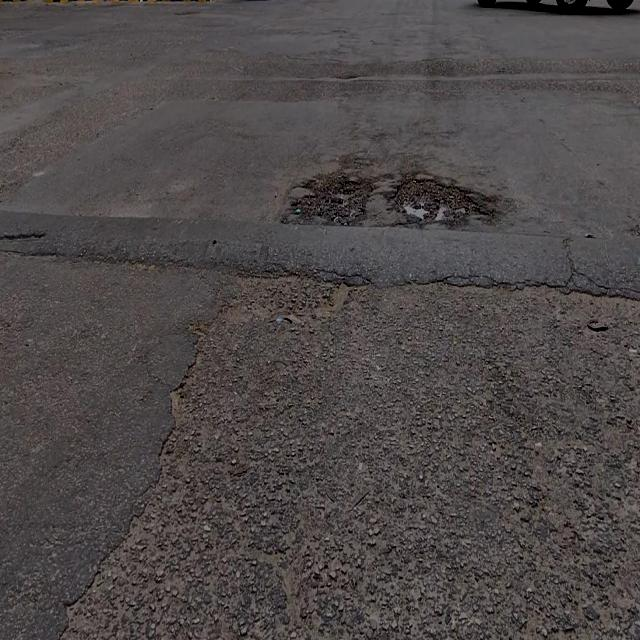Potholes: (395, 174, 489, 227), (290, 176, 373, 224)
